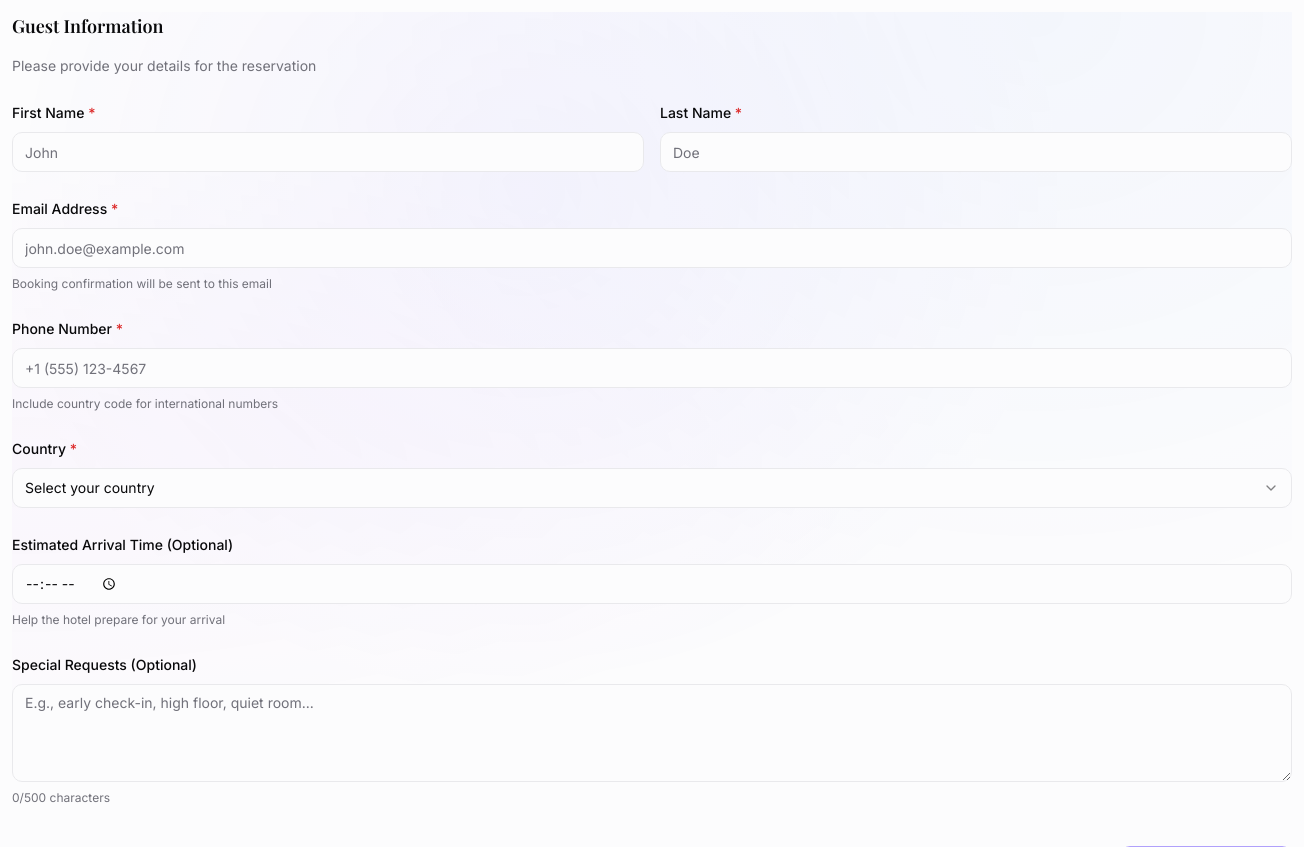
Test: GuestInfoForm Component › Required Field Validation › should show error when last name is empty
The width and height of the screenshot is (1304, 847).
Click the field labelled "Last Name *": (976, 152) [660,132,1292,172]
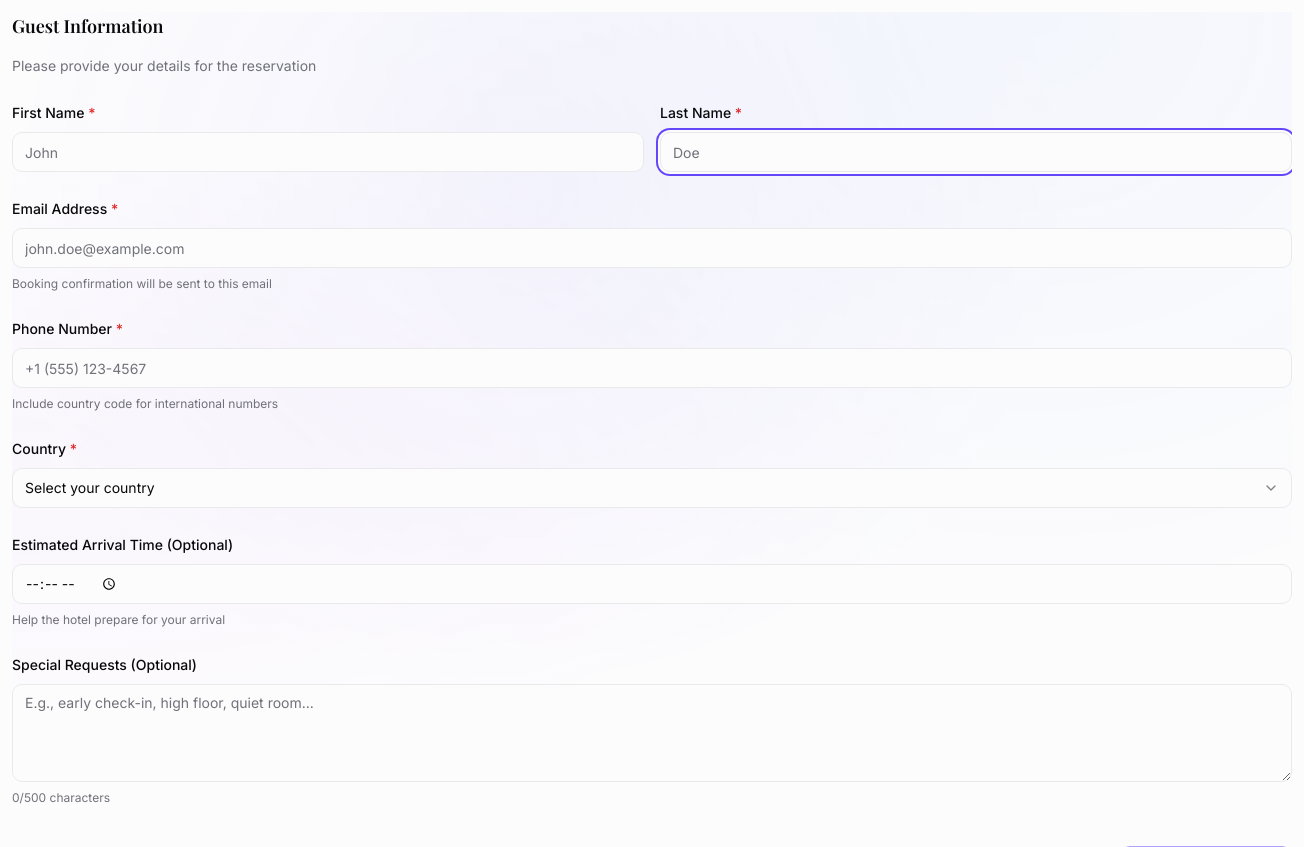
Press Tab
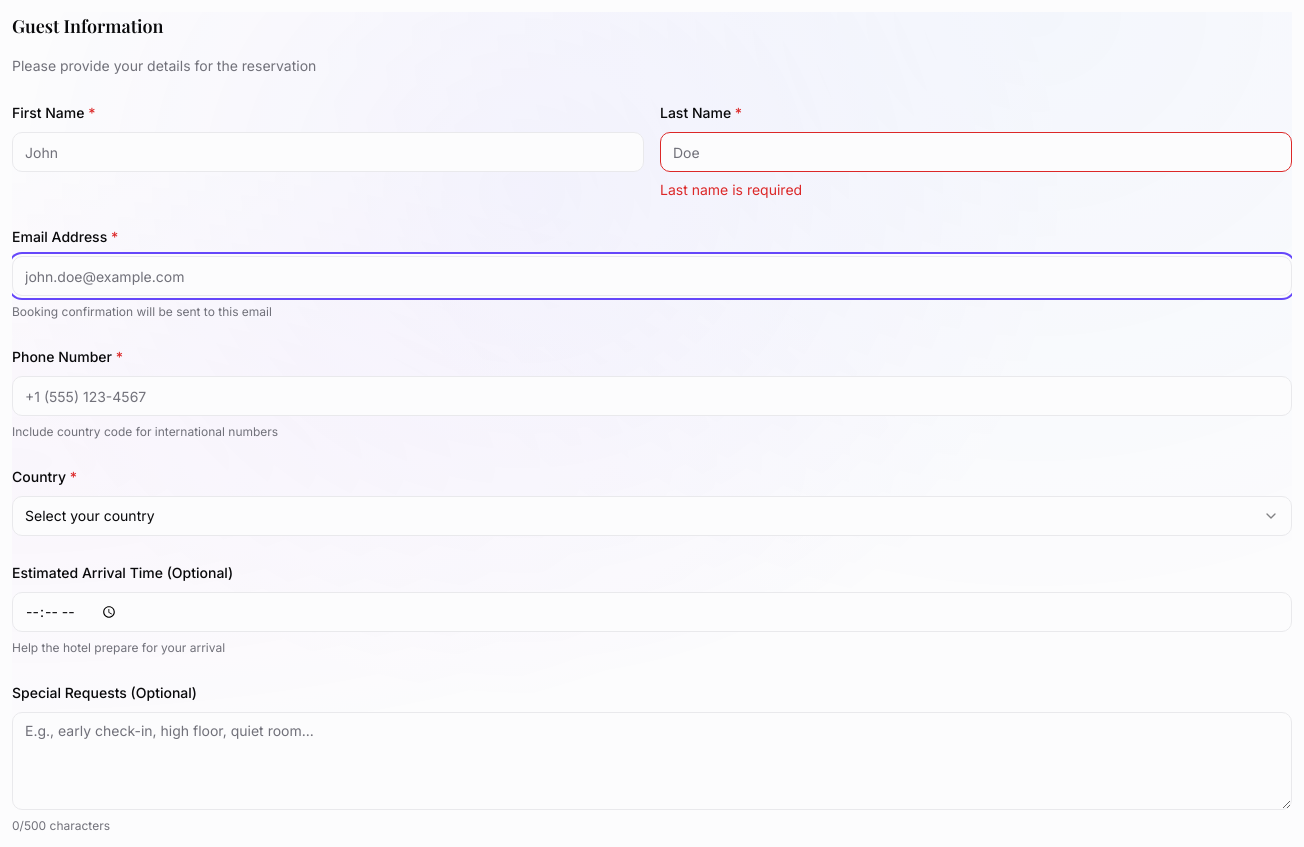
expect the text "Last name is required" is shown: met, box [660,181,802,198]
